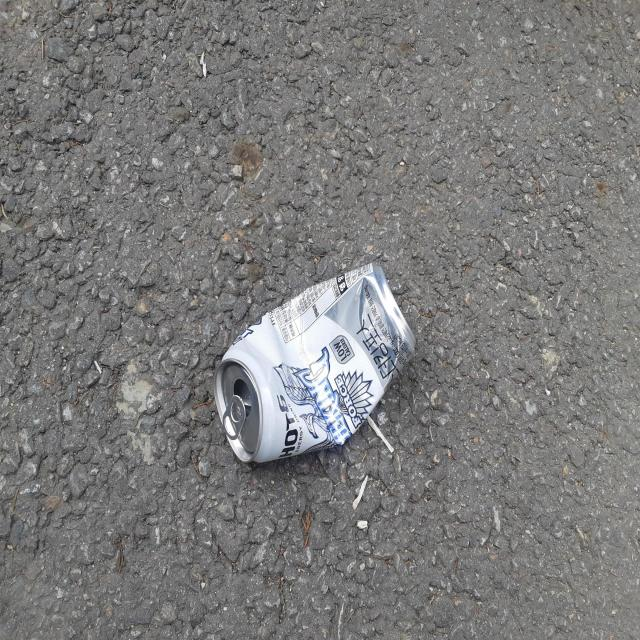can: (214, 264, 415, 463)
